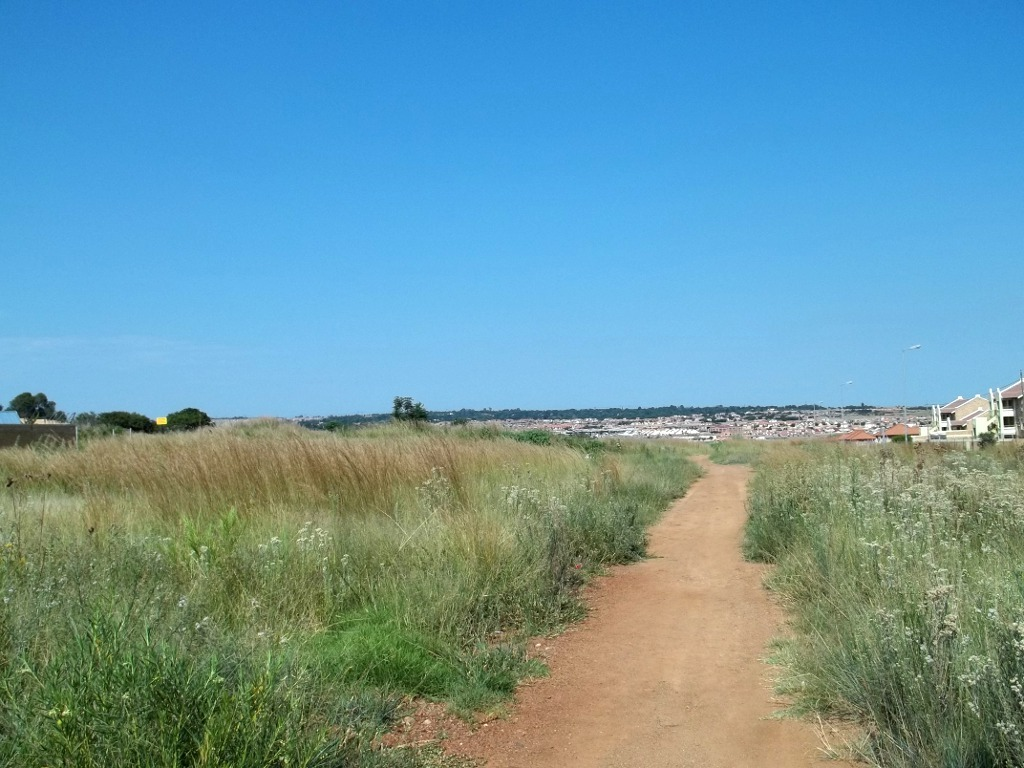Tree: (10, 387, 58, 432), (81, 406, 154, 432), (389, 394, 433, 424), (167, 408, 211, 432)
